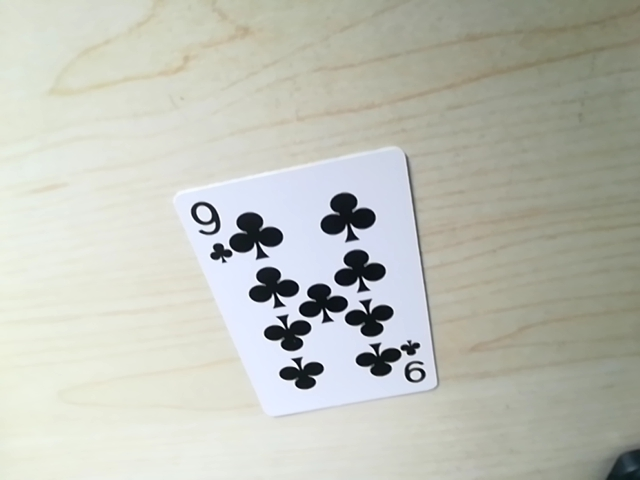mh 9: (186, 196, 227, 256), (380, 346, 433, 388)
